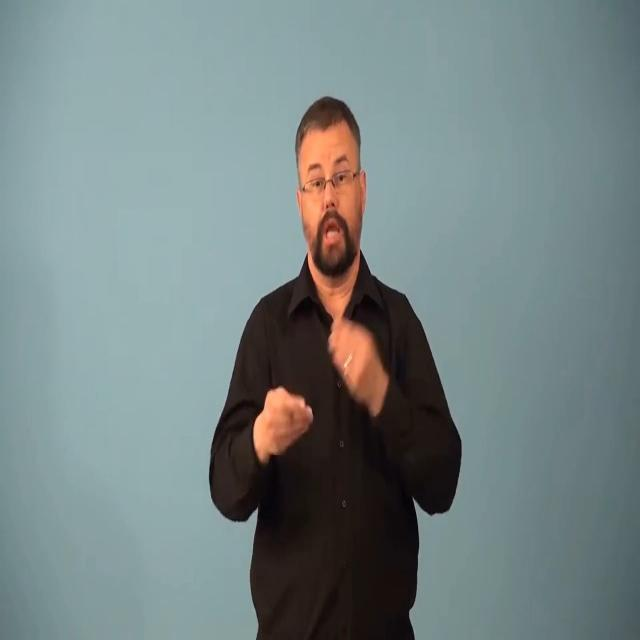cash: (256, 306, 391, 482)
